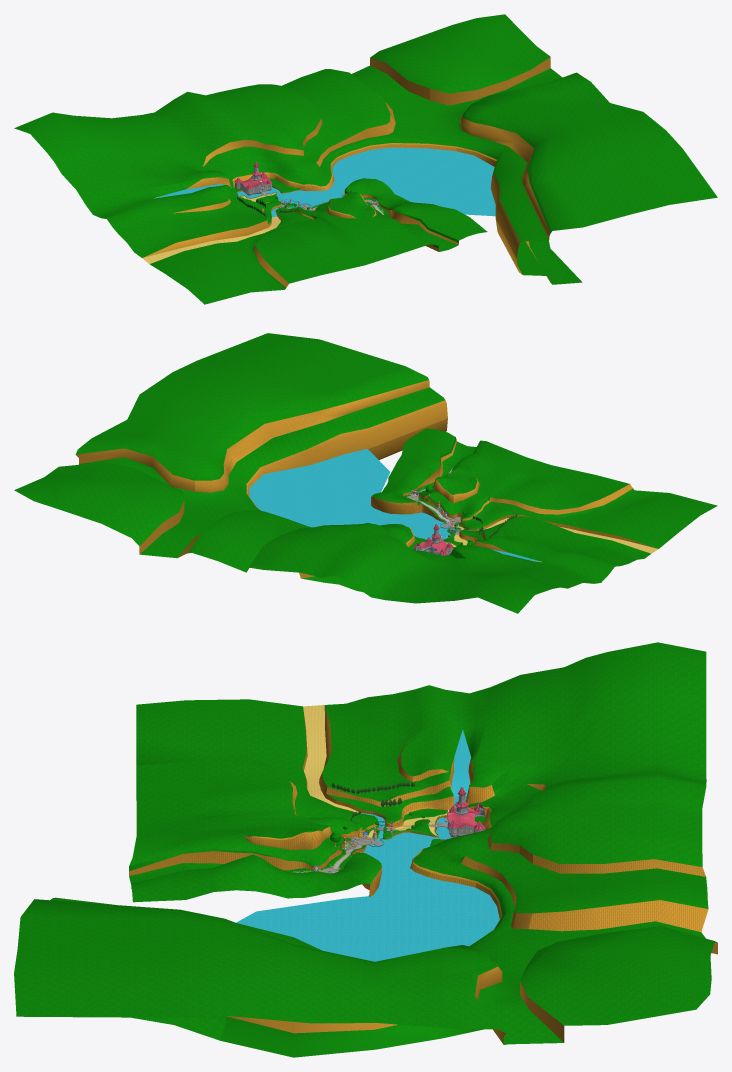
File: super_mario_galaxy_-_peachs_castle.glb
3 views of the same model, one above another, from view 1: azimuth 30°, elevation 25°; view 2: azimuth 150°, elevation 25°; view 3: azimuth 270°, elevation 25° (orthographic). The views are drawn at different scales.
Visible parts, largest first — view 1: Object_34, Object_56, Object_32, Object_38; view 2: Object_34, Object_56, Object_32, Object_38; view 3: Object_34, Object_56, Object_32, Object_38, Object_30, Object_14, Object_6.
Boxes of the visible parts, x1,y1,x2,y2 form: Object_34: (14, 14, 717, 304); Object_56: (143, 57, 550, 287); Object_32: (237, 147, 495, 216); Object_38: (142, 192, 291, 263); Object_34: (14, 333, 717, 613); Object_56: (76, 380, 656, 578); Object_32: (249, 449, 451, 550); Object_38: (446, 518, 658, 562); Object_34: (14, 642, 717, 1057); Object_56: (129, 705, 717, 1044); Object_32: (236, 817, 499, 961); Object_38: (303, 705, 447, 838); Object_30: (361, 729, 471, 838); Object_14: (343, 787, 485, 844); Object_6: (301, 795, 485, 872).
Bounding box in the file's own units: 58.44 × 9.73 × 48.03.
29 materials, 29 textured.
